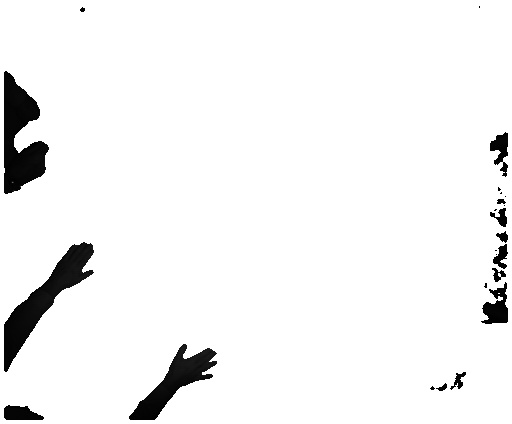hand: (169, 344, 223, 392), (57, 240, 95, 290), (16, 141, 55, 183)
